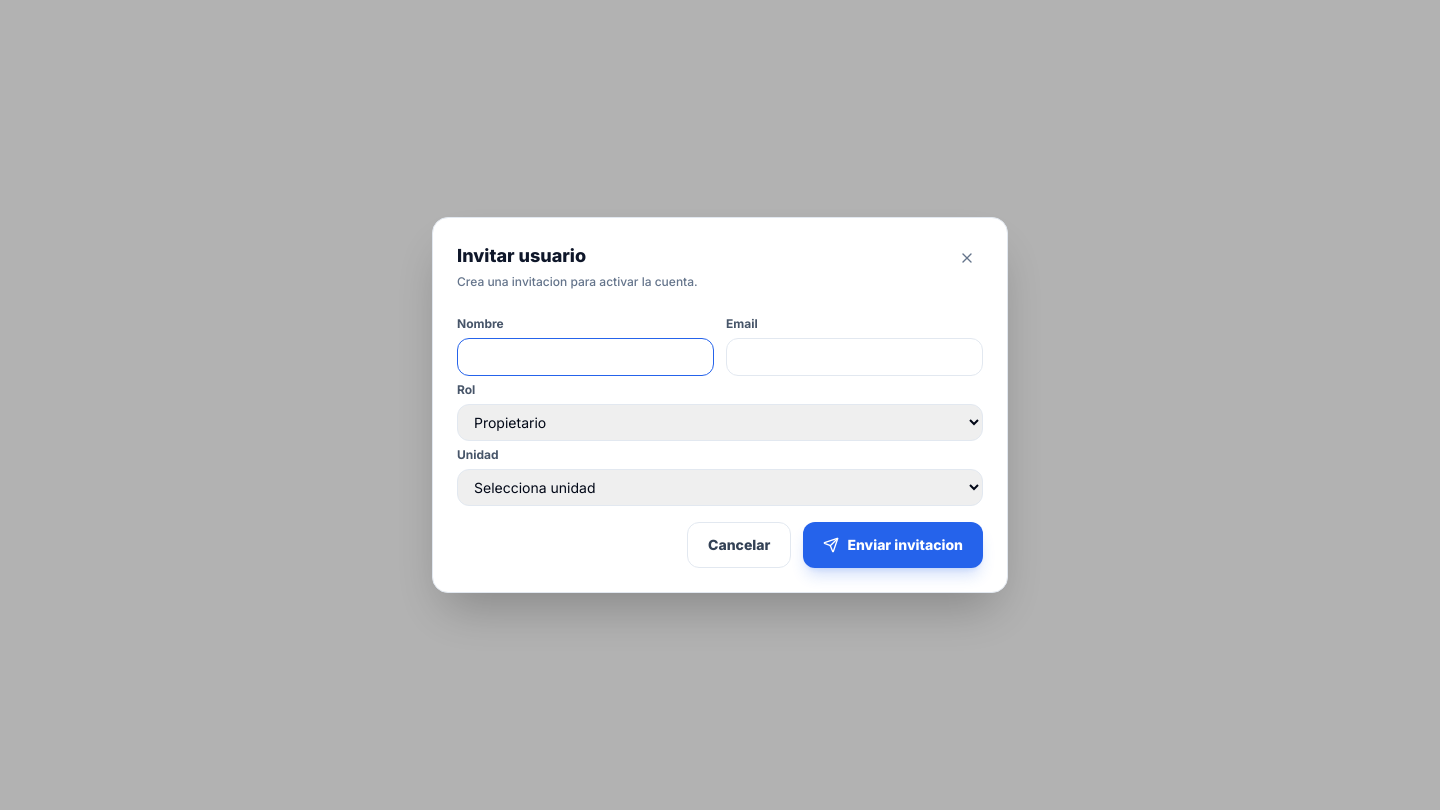
Scenario: InvitationCreationDialog › shows a clear email provider error for 503 responses
Type "Owner Invitada" into the field labelled "Nombre" at (586, 357), box [457,338,714,376]
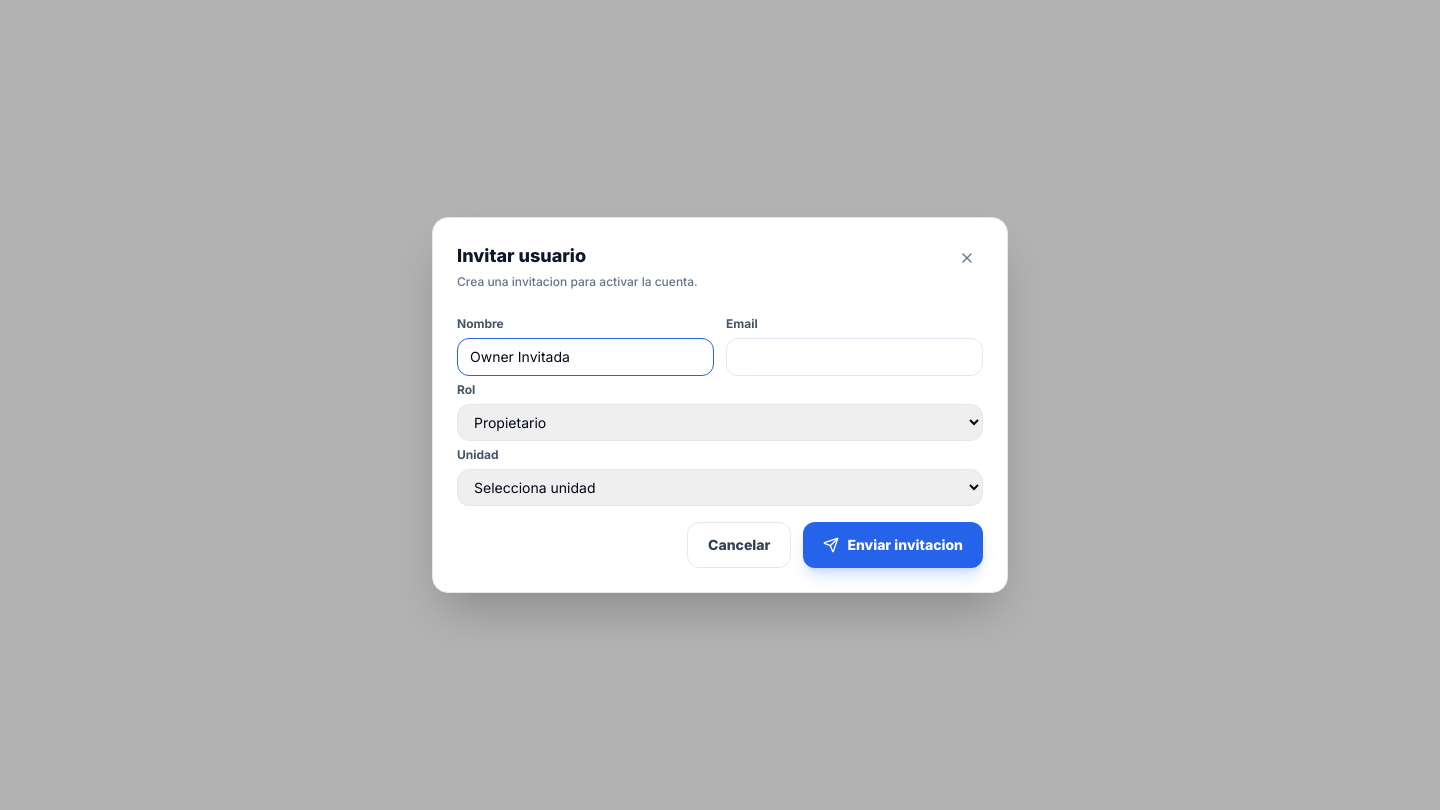
Type "owner@example.com" into the field labelled "Email" at (854, 357), box [726,338,983,376]
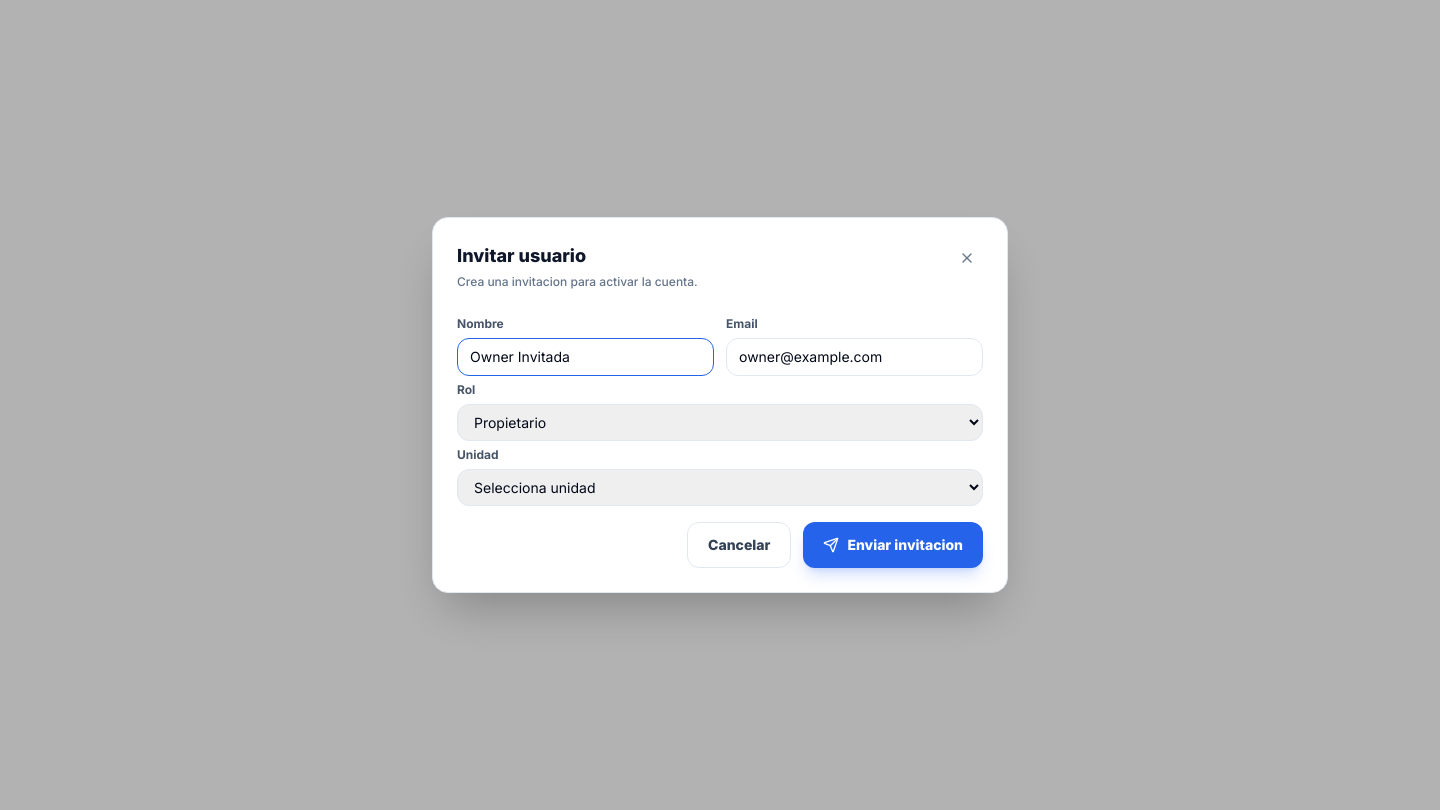
Select "Depto 101 - Torre Norte" in the dropdown labelled "Unidad" at (720, 488), box [457,469,983,506]
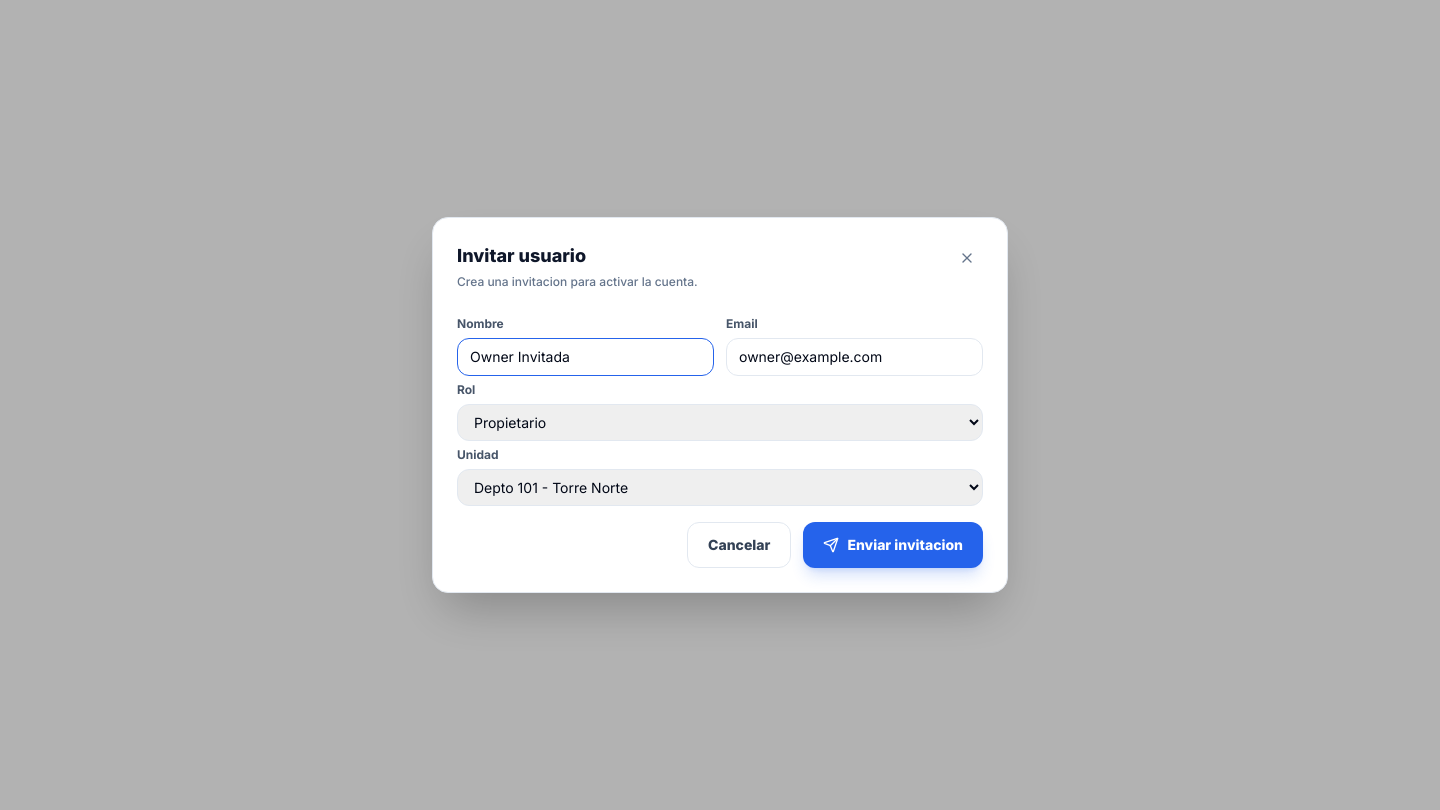
Click the button "Enviar invitacion" at (893, 545), box [803,522,983,568]
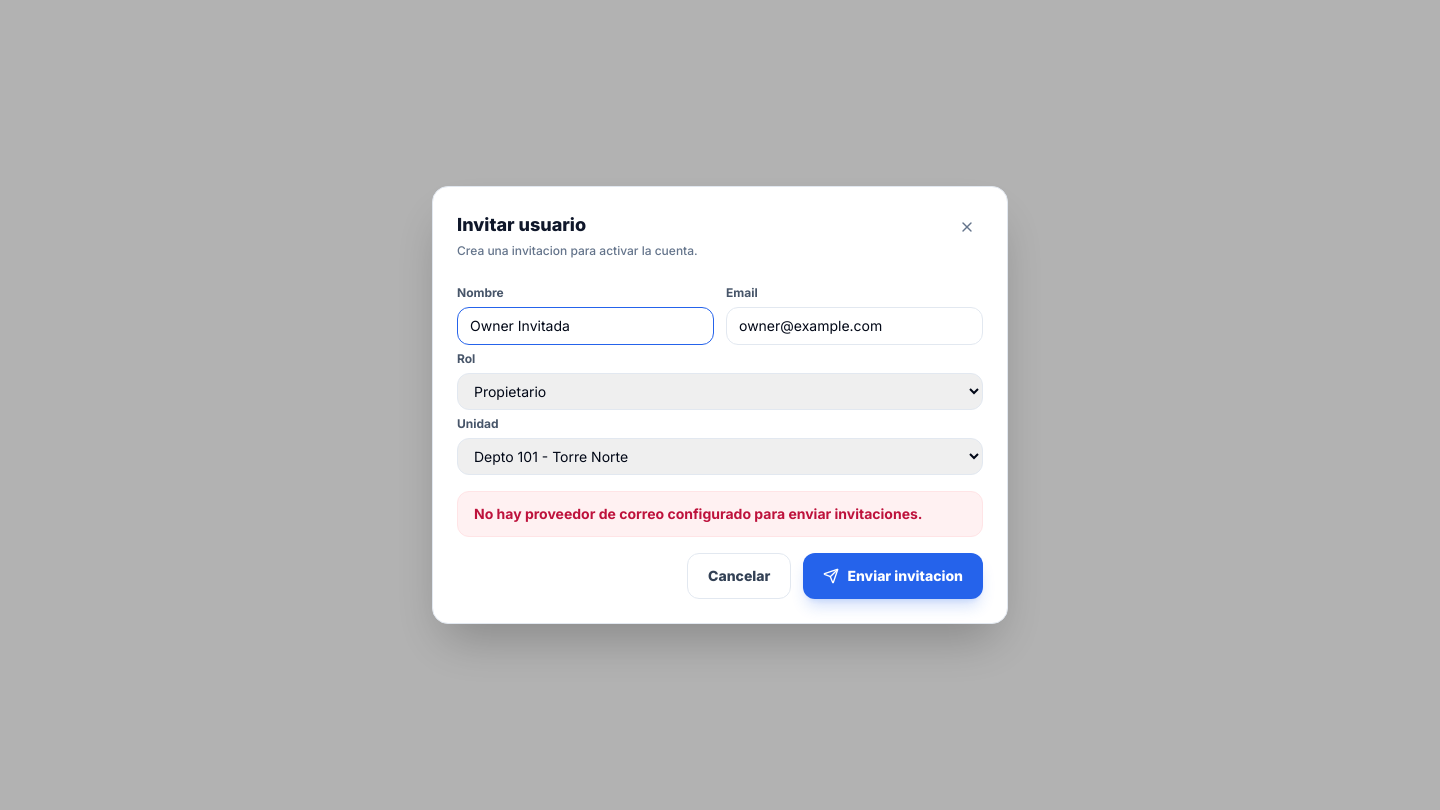
Check: the text "No hay proveedor de correo configurado para enviar invitaciones." is shown, box [457,491,983,537]
